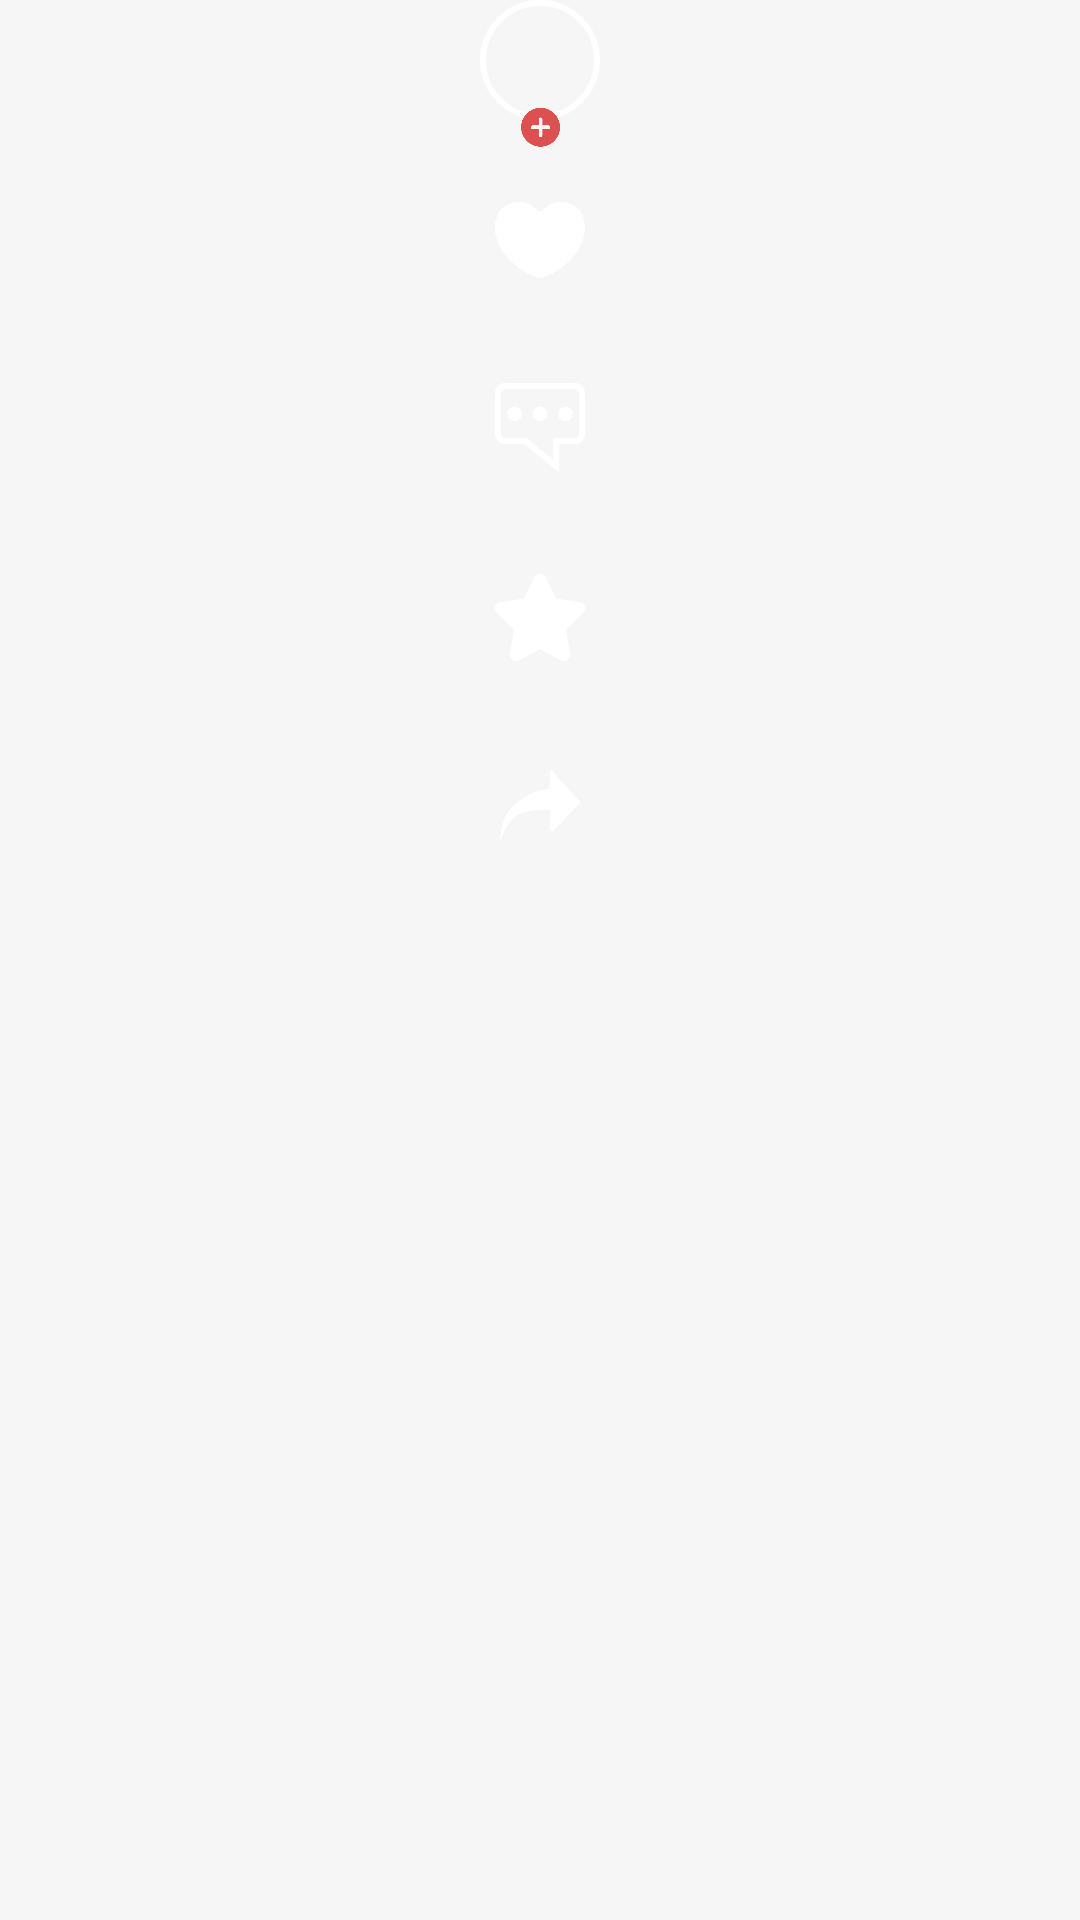

Named icons in this screenshot (1080x1920) and their centers, point (x, y):
add: point (540, 127)
